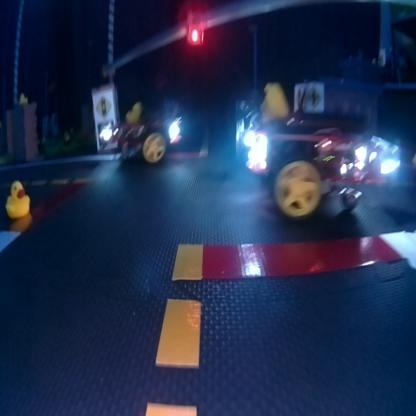duckie: (259, 81, 293, 127), (4, 173, 34, 224), (124, 98, 147, 126)
duckiebot: (234, 106, 400, 236), (95, 120, 193, 174)
